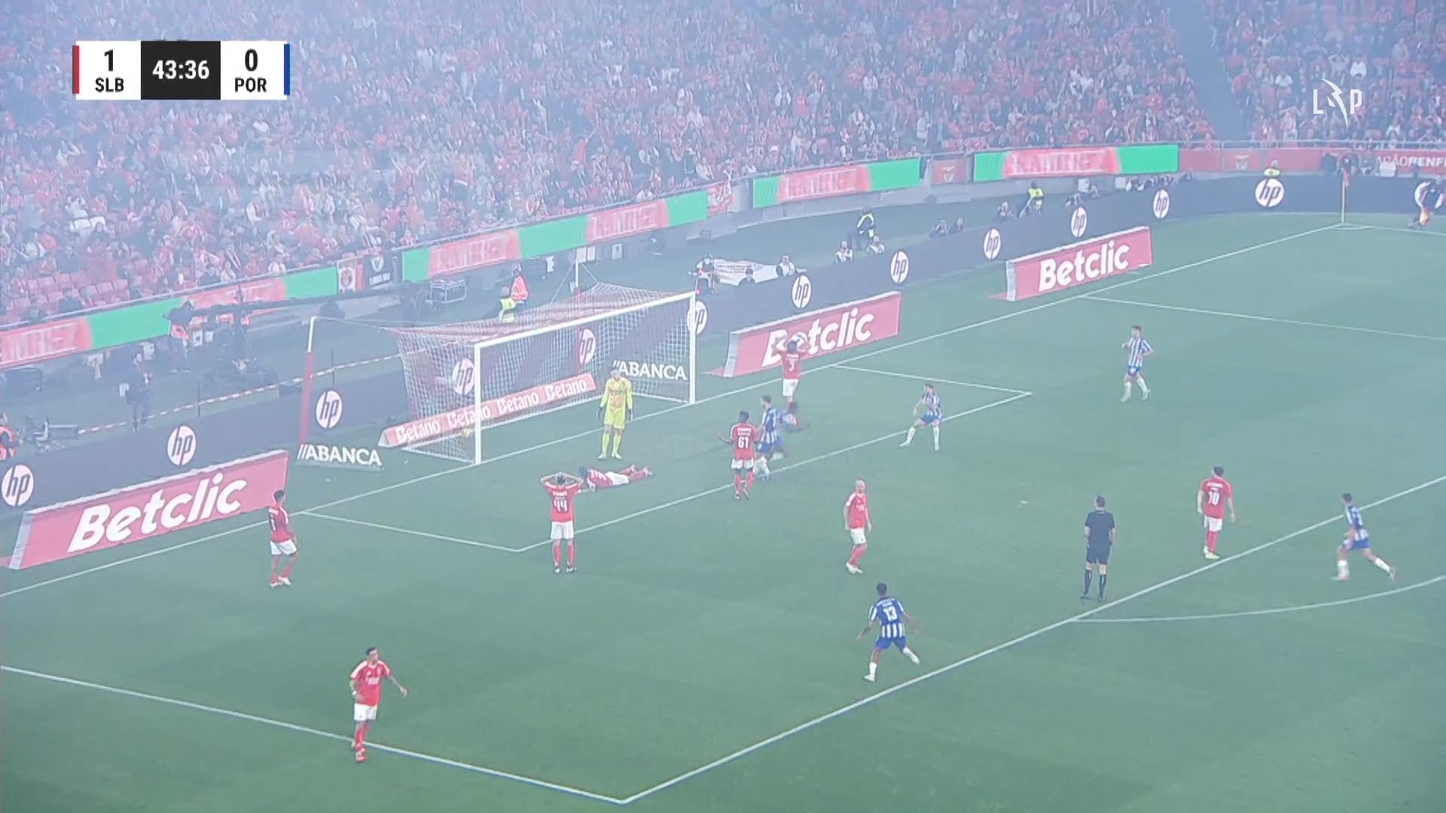goalkeeper: (595, 367, 633, 460)
player: (348, 645, 408, 762), (855, 580, 920, 682), (1330, 491, 1396, 582), (539, 470, 587, 574), (718, 410, 761, 500), (1196, 464, 1236, 559), (898, 382, 943, 451), (267, 489, 298, 588), (842, 477, 872, 574), (753, 394, 785, 480), (1119, 324, 1153, 403), (772, 336, 804, 412), (577, 463, 652, 492)
referee: (1079, 494, 1115, 601), (1409, 177, 1442, 227)
